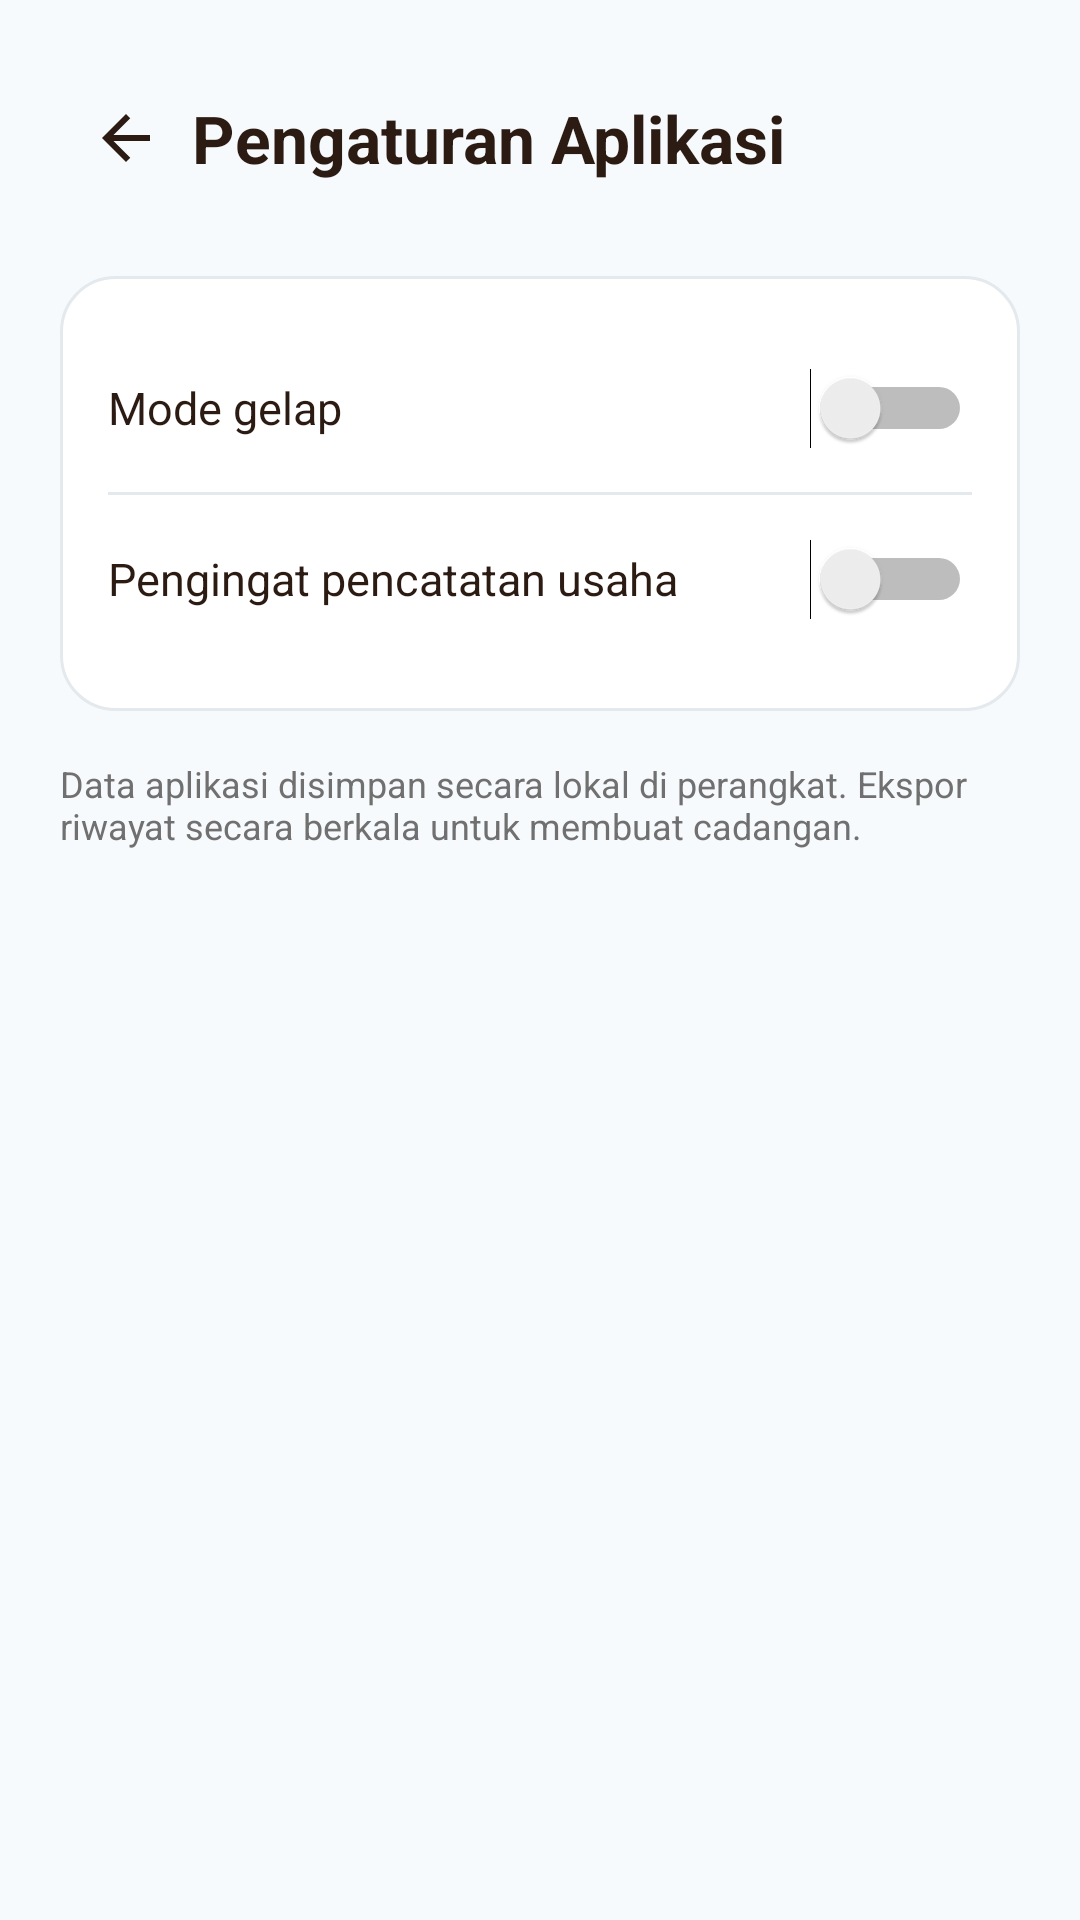

Icons on this 1080*1920 Android screen, each with its box as box(x1, y1, x2, y2):
Kembali: box(102, 114, 150, 162)
